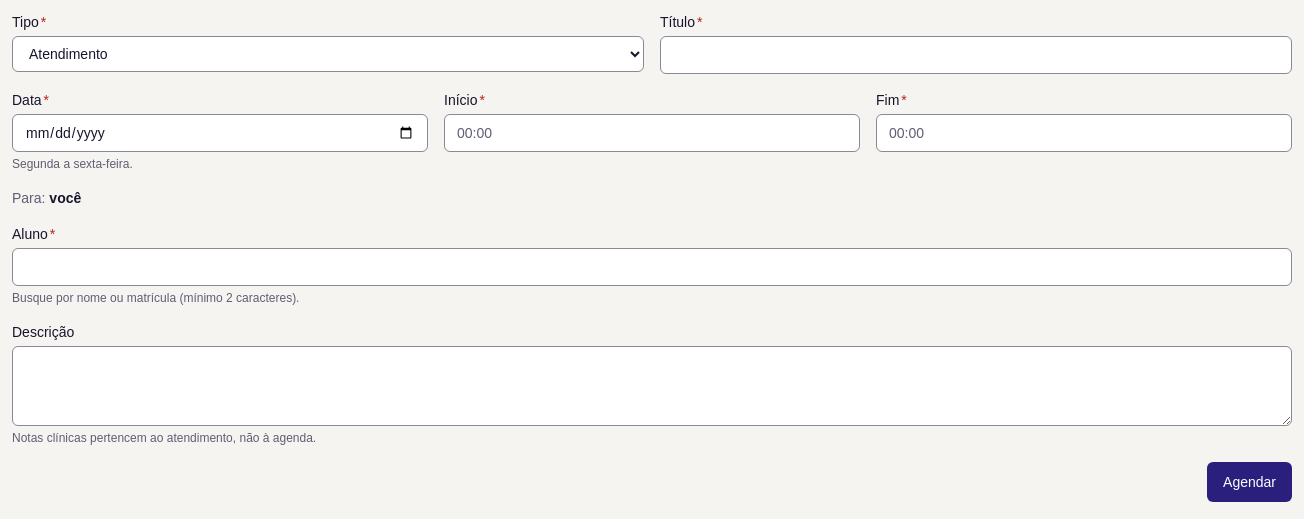
Test: CompromissoForm › Bloqueio_em_conflito_mostra_a_lista
Step 1. Select "Bloqueio" in the dropdown labelled "Tipo*" → (328, 54), box [12, 36, 644, 72]
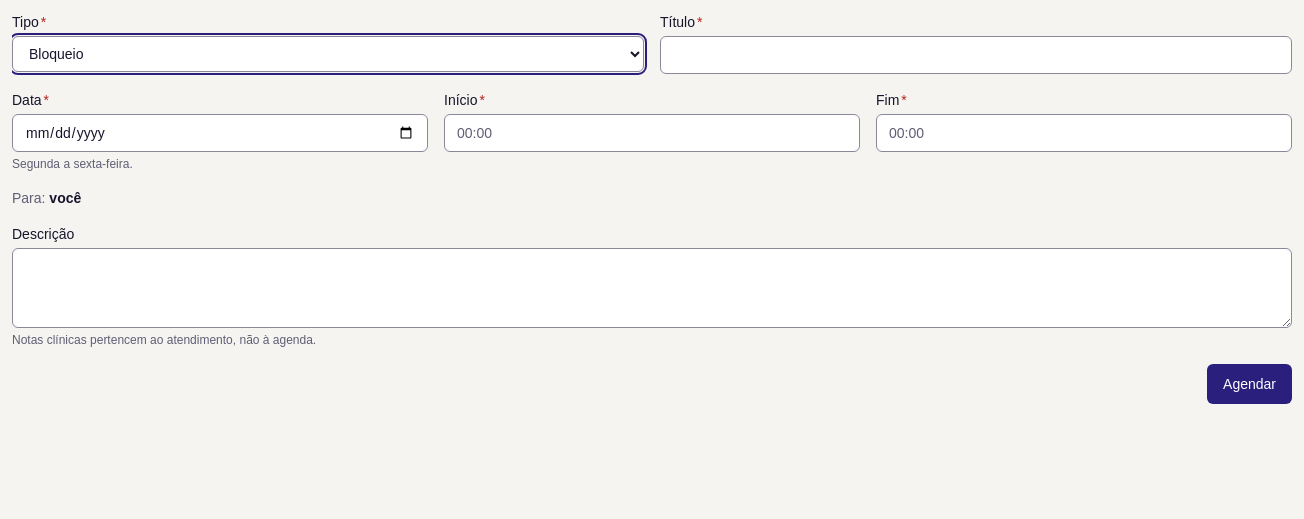
Step 2. Type "Bloqueio" into the field labelled "Título*" → (976, 55), box [660, 36, 1292, 74]
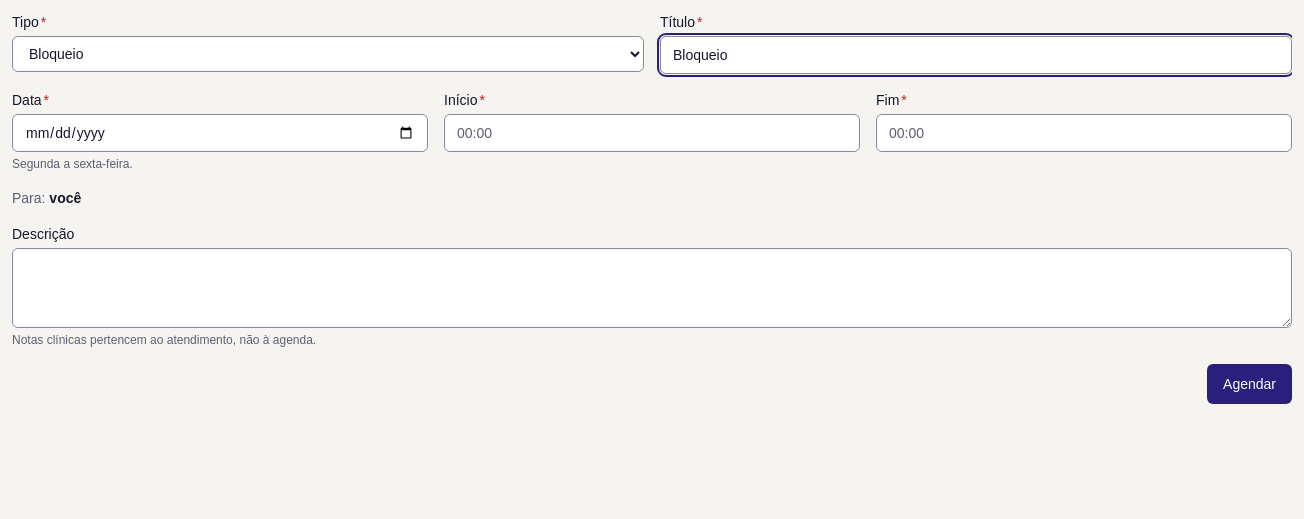
Step 3. Type "2026-09-29" into the date field labelled "Data*" → (220, 133), box [12, 114, 428, 152]
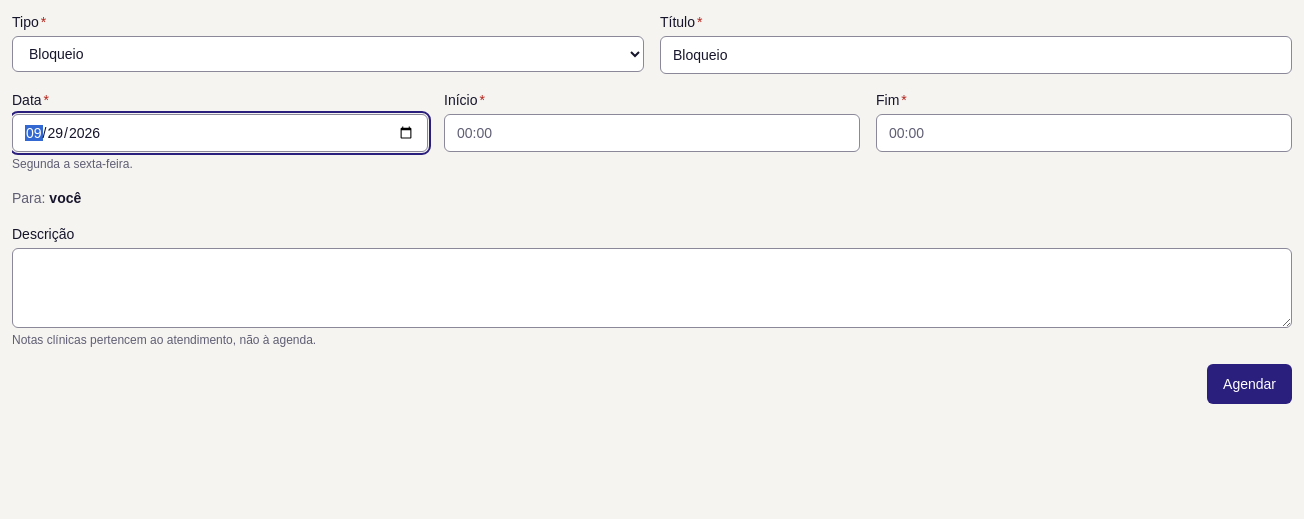
Step 4. Type "09:00" into the field labelled "Início*" → (652, 133), box [444, 114, 860, 152]
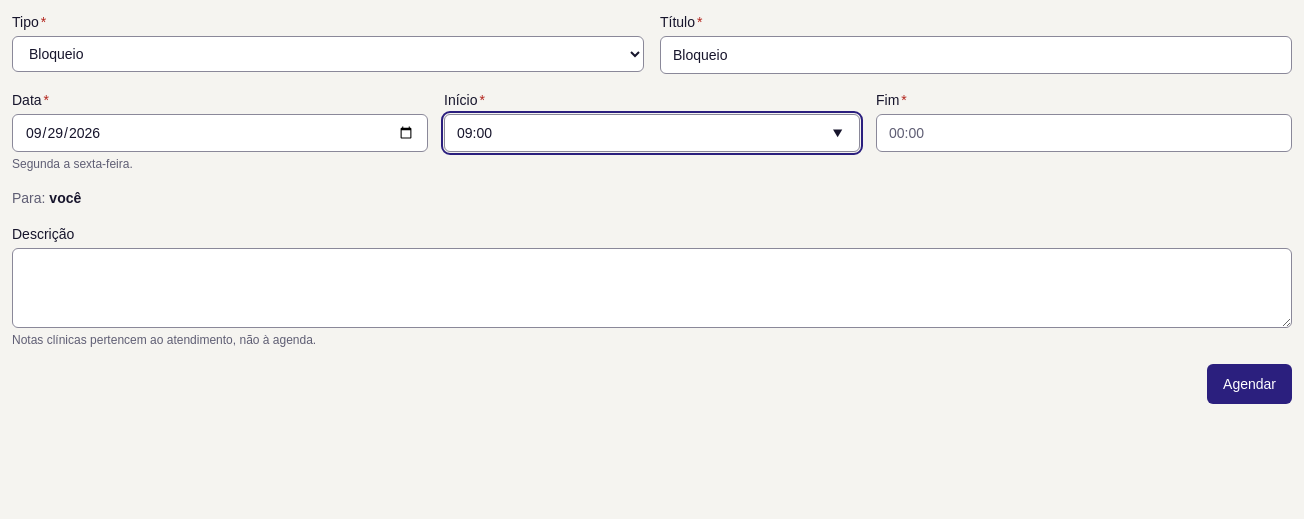
Step 5. Type "10:00" into the field labelled "Fim*" → (1084, 133), box [876, 114, 1292, 152]
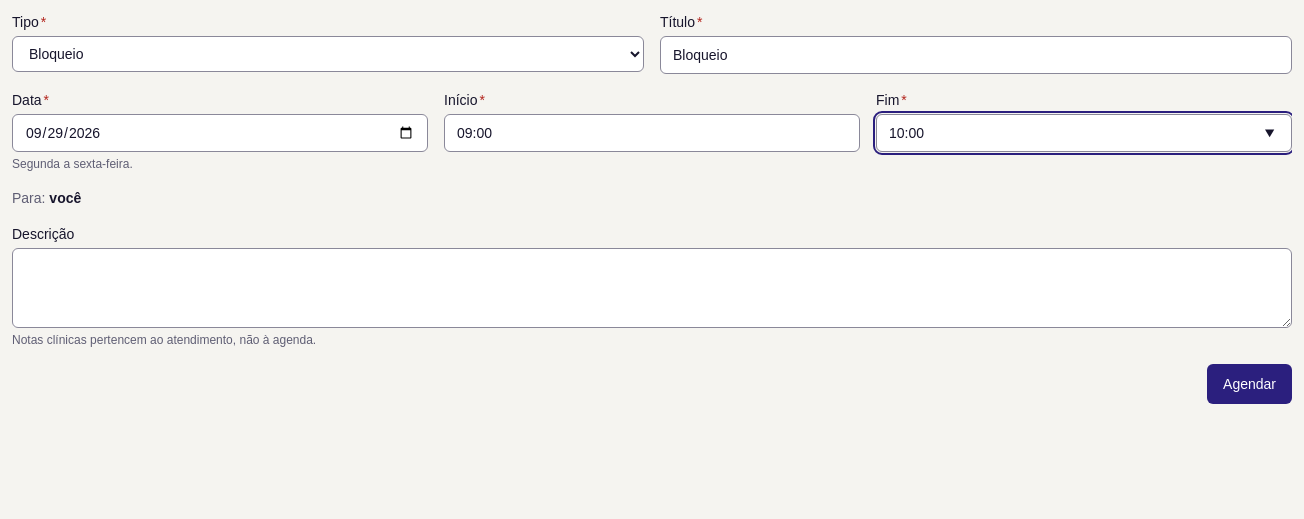
Step 6. Click the button "Agendar" → (1250, 384), box [1207, 364, 1292, 404]
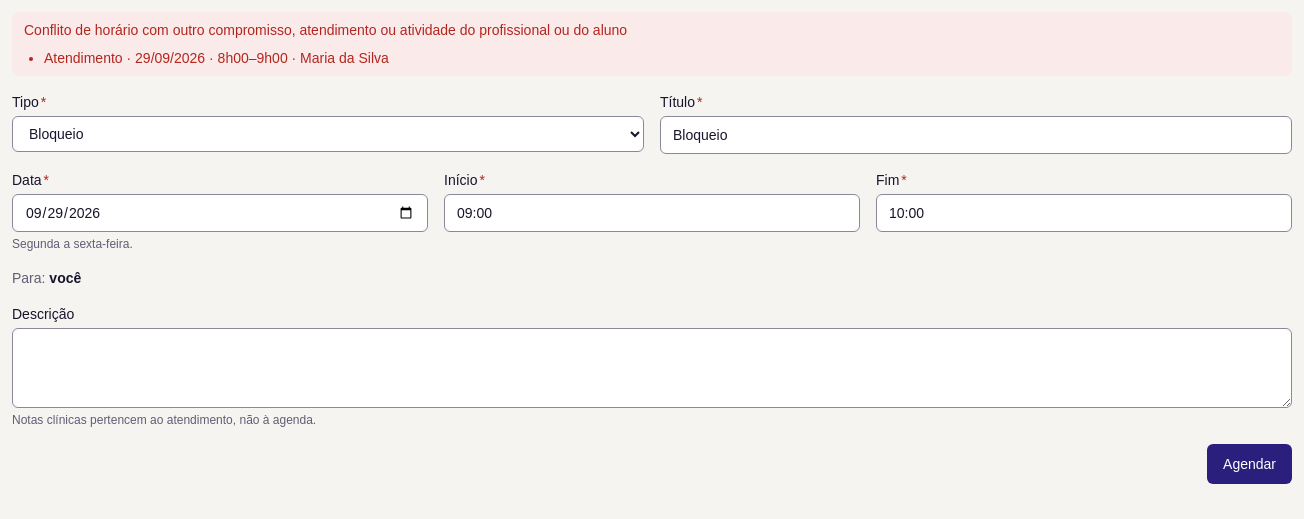
expect the list named "Itens em conflito" shows "Atendimento": met, box [44, 50, 123, 66]
expect the list named "Itens em conflito" shows "Maria da Silva": met, box [288, 50, 389, 66]
